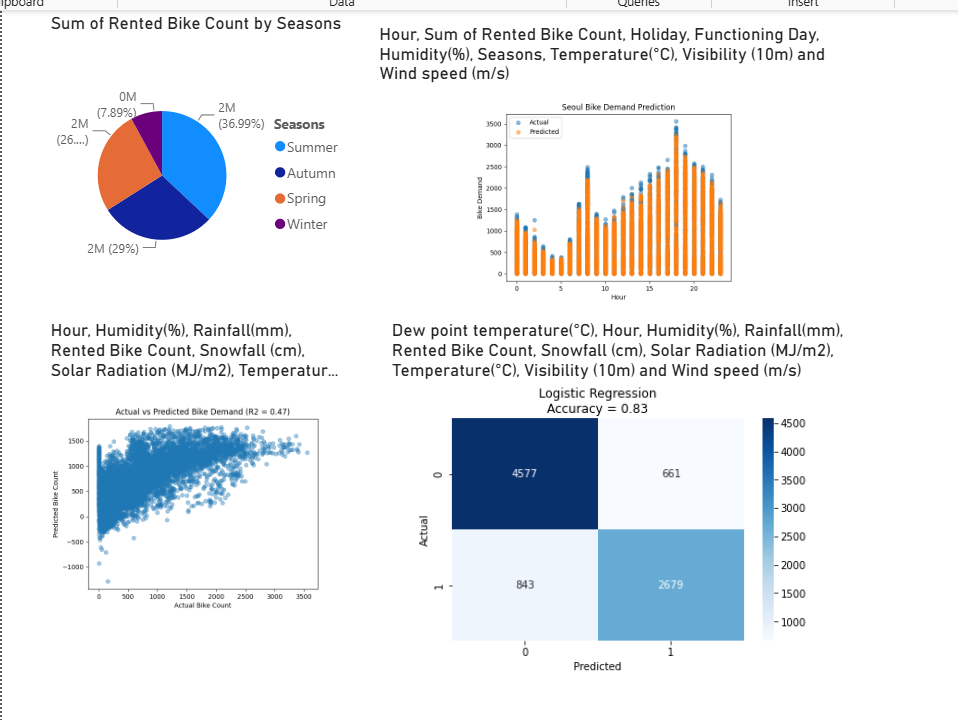

Layout of this report page (visuals, bound fields, positions):
{"tool":"powerbi","page":{"name":"Page 1","canvas":[1280,720],"ordinal":0},"visuals":[{"type":"pythonVisual","fields":{"Values":["SeoulBikeData (1).Hour","Sum(SeoulBikeData (1).Rented Bike Count)","SeoulBikeData (1).Holiday","SeoulBikeData (1).Functioning Day","SeoulBikeData (1).Humidity(%)","SeoulBikeData (1).Seasons","SeoulBikeData (1).Temperature(°C)","SeoulBikeData (1).Visibility (10m)","SeoulBikeData (1).Wind speed (m/s)"]},"box":[363.4,0,499.6,297.2],"z":0},{"type":"pieChart","fields":{"Category":["SeoulBikeData (1).Seasons"],"Y":["Sum(SeoulBikeData (1).Rented Bike Count)"]},"box":[44,0,299.6,300.8],"z":1000},{"type":"pythonVisual","fields":{"Values":["SeoulBikeData (1).Hour","SeoulBikeData (1).Humidity(%)","SeoulBikeData (1).Rainfall(mm)","SeoulBikeData (1).Rented Bike Count","SeoulBikeData (1).Snowfall (cm)","SeoulBikeData (1).Solar Radiation (MJ/m2)","SeoulBikeData (1).Temperature(°C)","SeoulBikeData (1).Visibility (10m)","SeoulBikeData (1).Wind speed (m/s)","SeoulBikeData (1).Dew point temperature(°C)"]},"box":[43,303,300,300],"z":2000},{"type":"pythonVisual","fields":{"Values":["SeoulBikeData (1).Dew point temperature(°C)","SeoulBikeData (1).Hour","SeoulBikeData (1).Humidity(%)","SeoulBikeData (1).Rainfall(mm)","SeoulBikeData (1).Rented Bike Count","SeoulBikeData (1).Snowfall (cm)","SeoulBikeData (1).Solar Radiation (MJ/m2)","SeoulBikeData (1).Temperature(°C)","SeoulBikeData (1).Visibility (10m)","SeoulBikeData (1).Wind speed (m/s)"]},"box":[376.7,303.3,471.7,350],"z":3000}]}

Visuals, with their boxes on the page's 1280x720 design canvas (x1, y1, x2, y2). These are canvas units, not pixel positions in the 958x722 screenshot, which may show the page scaled, cropped or inside an application window:
pythonVisual - SeoulBikeData (1).Hour x Sum(SeoulBikeData (1).Rented Bike Count): [363, 0, 863, 297]
pieChart - SeoulBikeData (1).Seasons x Sum(SeoulBikeData (1).Rented Bike Count): [44, 0, 344, 301]
pythonVisual - SeoulBikeData (1).Hour x SeoulBikeData (1).Humidity(%): [43, 303, 343, 603]
pythonVisual - SeoulBikeData (1).Dew point temperature(°C) x SeoulBikeData (1).Hour: [377, 303, 848, 653]
